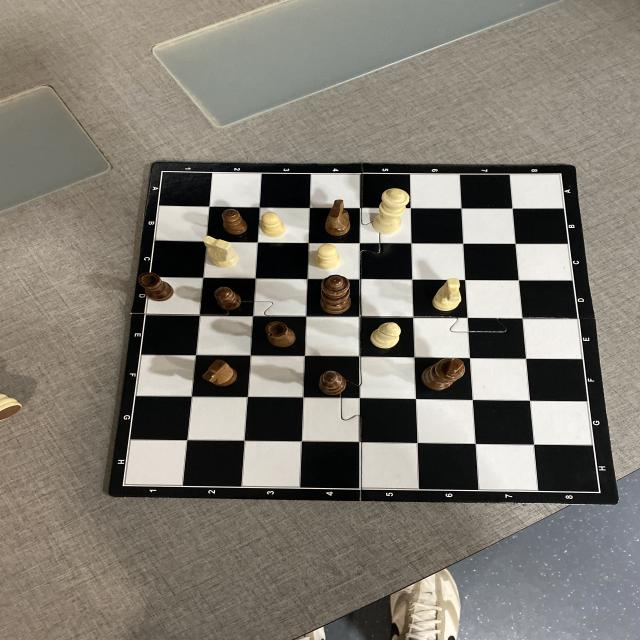Black-Bishop: (316, 372, 347, 396)
Black-King: (421, 355, 466, 391)
Black-Knight: (324, 200, 349, 236), (202, 360, 235, 387)
Black-Pawn: (222, 209, 248, 234), (214, 286, 241, 309)
Black-Queen: (317, 274, 351, 313)
Black-Rook: (137, 272, 179, 301), (266, 321, 297, 349)
White-Bishop: (369, 322, 402, 350)
White-Knight: (205, 235, 238, 270), (431, 277, 463, 312)
White-Pawn: (260, 212, 286, 237), (315, 244, 342, 268)
White-Queen: (370, 186, 410, 234)
